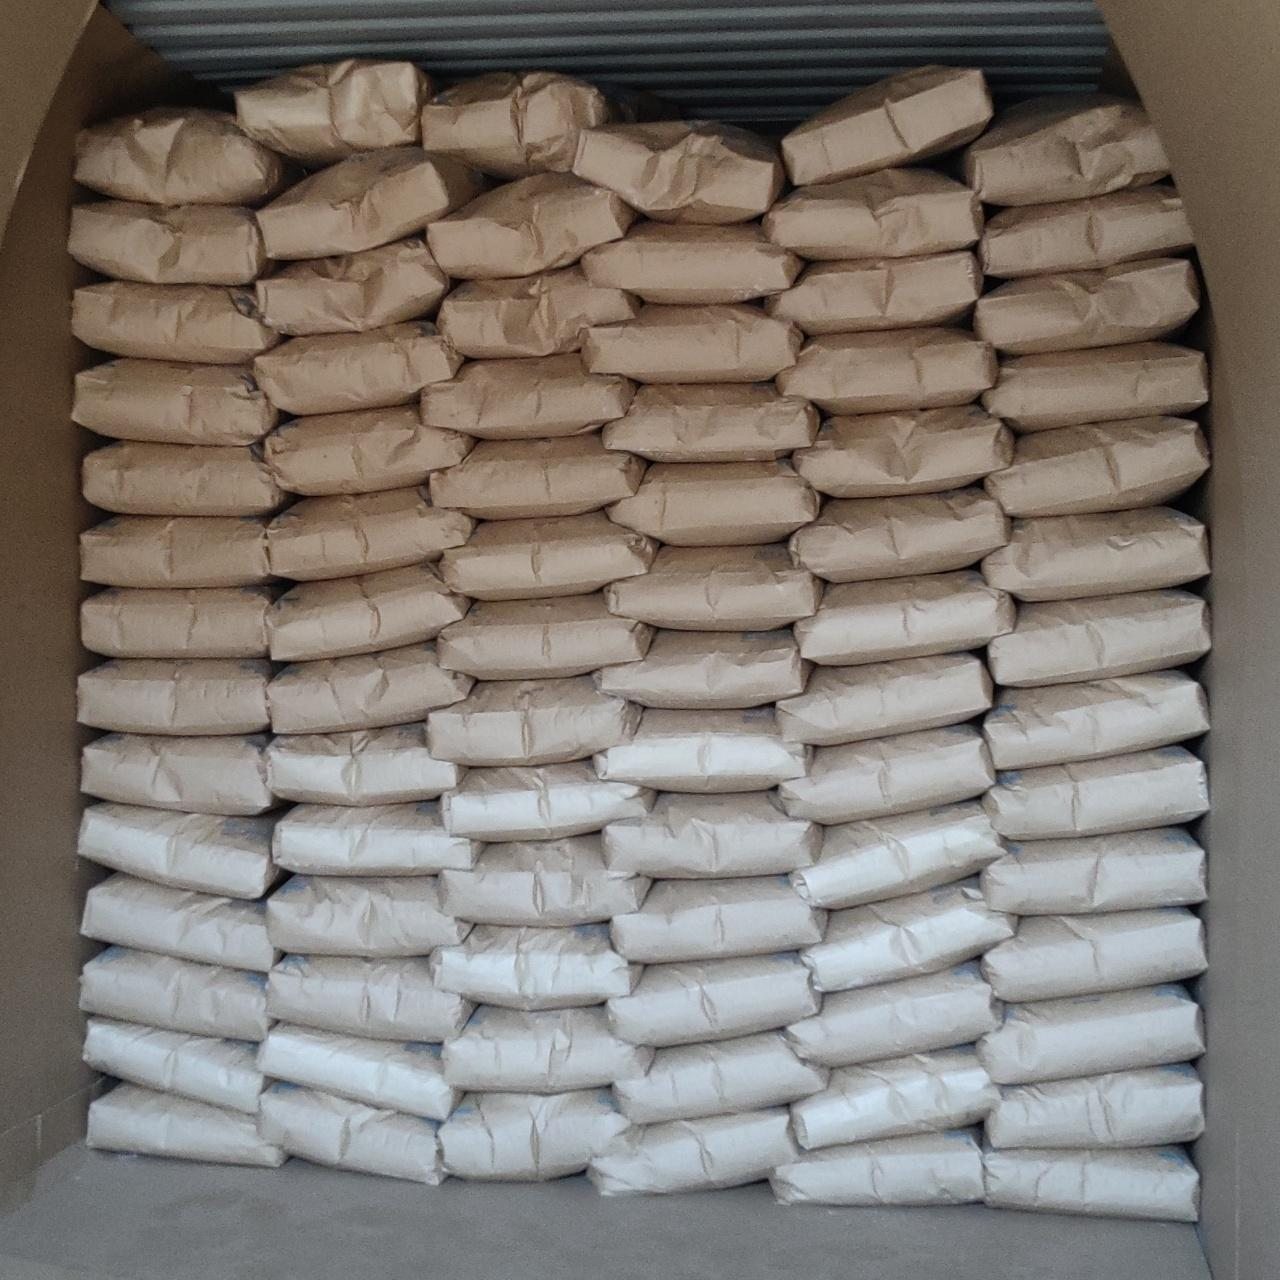sack: (258, 147, 486, 258), (782, 68, 990, 182), (802, 880, 1014, 990), (960, 94, 1167, 204), (792, 802, 1006, 908), (978, 983, 1201, 1084), (422, 72, 632, 176), (428, 173, 636, 278), (76, 108, 302, 204), (568, 122, 784, 222), (986, 418, 1206, 516), (988, 590, 1210, 686), (788, 962, 1000, 1062), (983, 672, 1206, 765), (779, 724, 994, 822), (236, 60, 434, 164), (983, 745, 1206, 838), (792, 1048, 998, 1148), (982, 508, 1206, 598), (974, 260, 1198, 350), (796, 570, 1014, 662), (790, 488, 1006, 580), (982, 908, 1206, 998), (764, 168, 982, 258), (980, 184, 1190, 278), (982, 343, 1206, 430), (614, 1030, 826, 1122), (982, 828, 1204, 914), (608, 954, 818, 1046), (794, 406, 1012, 493), (256, 322, 462, 414), (272, 564, 468, 660), (82, 874, 278, 971), (778, 654, 990, 742), (260, 1024, 458, 1118), (268, 488, 474, 578), (256, 238, 448, 334), (428, 676, 638, 764), (612, 876, 824, 962), (440, 264, 638, 356), (80, 802, 278, 894), (440, 836, 648, 924), (442, 512, 654, 598), (778, 328, 996, 411), (264, 406, 470, 493), (422, 354, 636, 438), (604, 792, 821, 876), (438, 594, 654, 678), (260, 1084, 444, 1182), (590, 1108, 796, 1194), (270, 642, 470, 731), (433, 434, 644, 518), (765, 252, 982, 334), (606, 546, 822, 628), (594, 708, 810, 790), (986, 1065, 1201, 1148), (444, 1006, 652, 1090), (583, 222, 798, 302), (74, 360, 280, 444), (610, 459, 821, 542), (82, 948, 272, 1039), (584, 304, 802, 382), (440, 1090, 632, 1178), (433, 924, 638, 1006), (70, 200, 272, 284), (266, 956, 470, 1039), (86, 1017, 266, 1110), (442, 760, 654, 838), (266, 876, 468, 956), (74, 282, 278, 362), (594, 629, 808, 706), (604, 384, 818, 459), (88, 1084, 284, 1166), (266, 722, 462, 804), (772, 1128, 982, 1204), (983, 1146, 1198, 1220), (82, 734, 274, 813), (274, 802, 482, 874), (84, 442, 290, 515), (79, 660, 274, 734), (82, 588, 278, 654), (82, 516, 270, 584)
